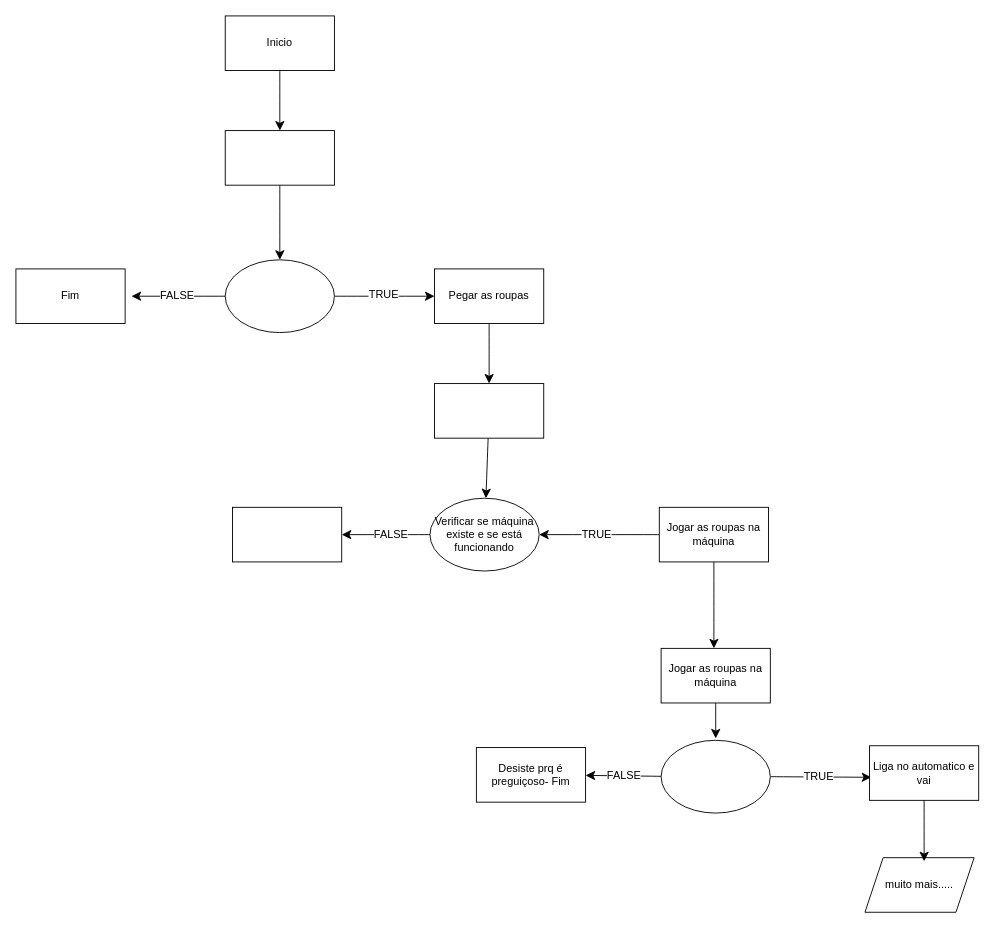
Some shapes in this 995 by 928 pixel diagram are drawn without their labels. Here are the shapes that lost their labels. From the top down, the centre of each, then its label:
At point (279, 157): "Ir até a lavandaria".
At point (279, 296): "Se tiver roupas sujas".
At point (489, 410): "Ir até a máquina de lavar".
At point (287, 534): "Desiste - Fim".
At point (715, 776): "Se tiver os produtos de limpeza pra colocar na máquina".
